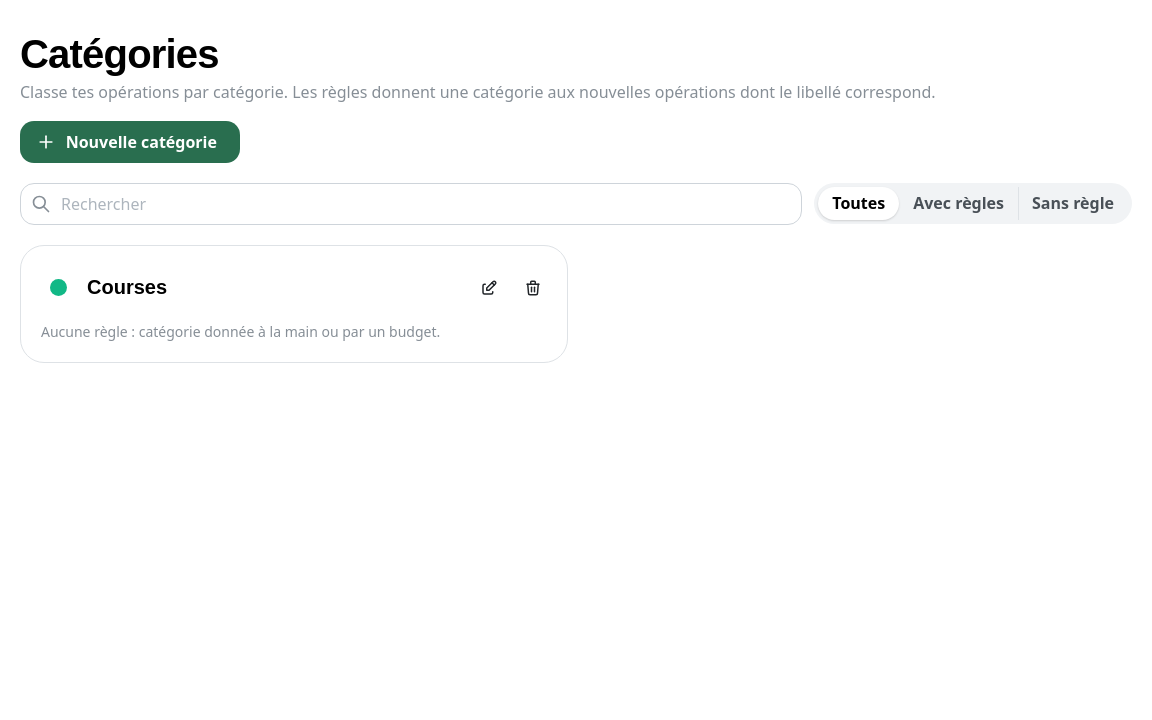
Scenario: CategoriesPage › generates a new colour on demand
Click the button named "Modifier Courses". click: (489, 288)
box: [467,266,511,310]
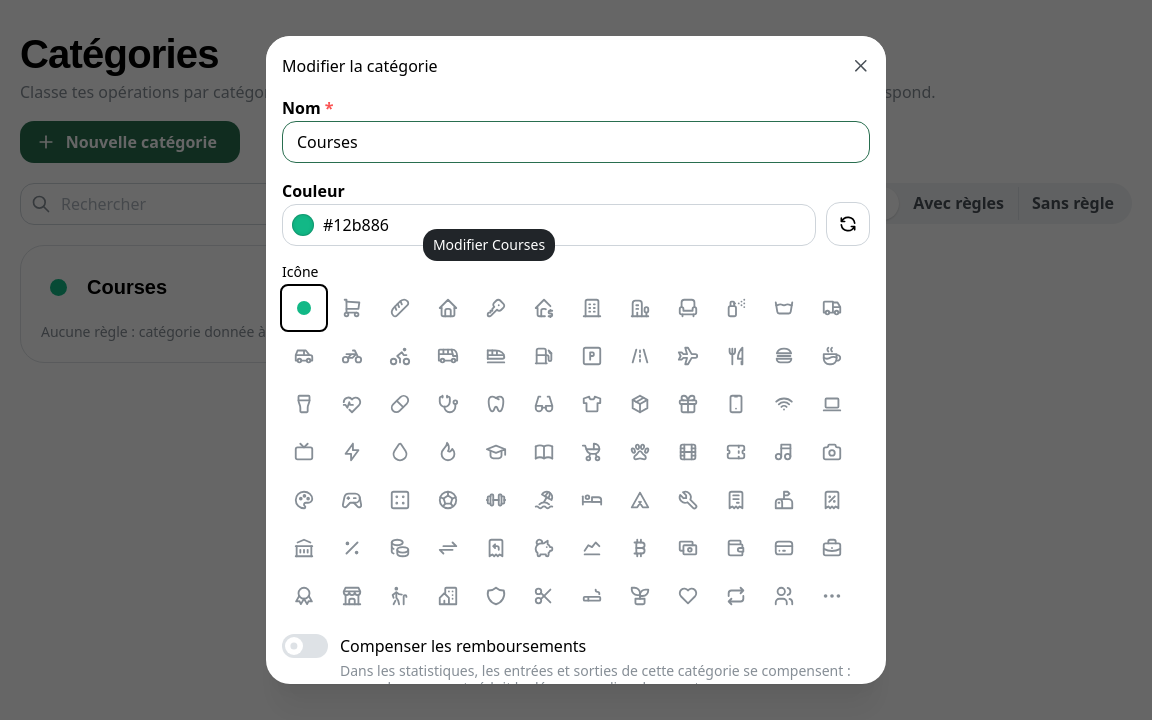
Check: the field labelled "Couleur" holds "#12b886", box [282,204,816,246]
Click the button named "Générer une couleur". click: (848, 224)
box: [826,202,870,246]
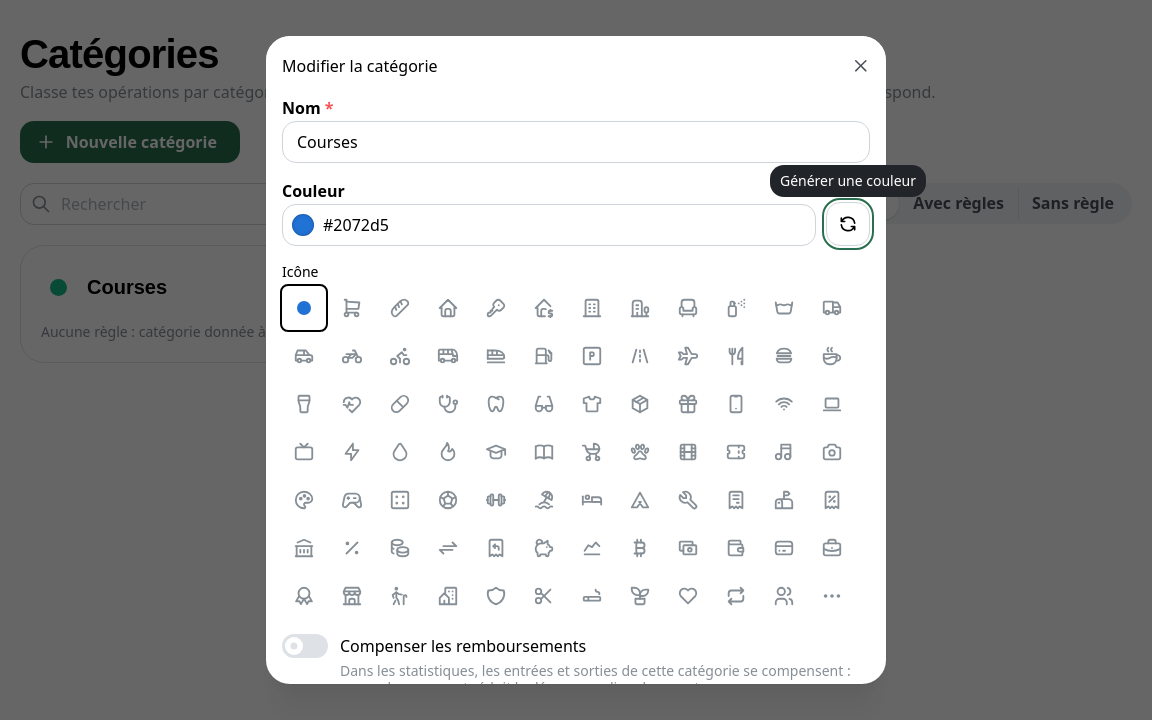
Check: the field labelled "Couleur" does not hold "#12b886", box [282,204,816,246]
